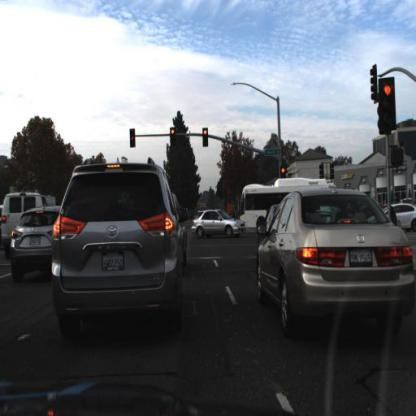car: (255, 188, 412, 341), (52, 160, 187, 333), (238, 182, 334, 225), (14, 206, 67, 279), (8, 183, 43, 275), (1, 189, 38, 253), (190, 210, 245, 240), (256, 203, 276, 252), (383, 202, 416, 227)
pedestrian: (390, 203, 402, 226)
trafficLight: (129, 125, 137, 149)
trafficLight-Red: (376, 75, 400, 141), (201, 125, 210, 149), (169, 127, 178, 148), (280, 165, 287, 186)
truck: (237, 179, 293, 228)
